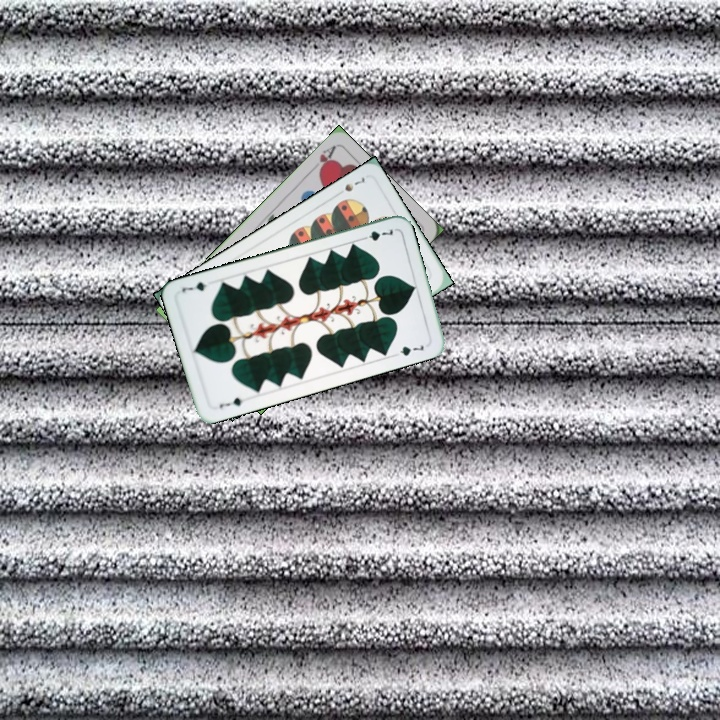G7: (357, 225, 396, 243), (215, 393, 245, 411)
HA: (306, 142, 338, 176)
S7: (332, 173, 367, 199)
